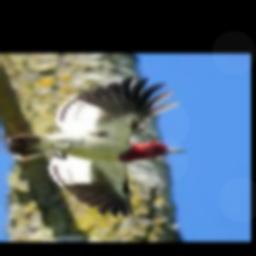Woodpecker: (0, 77, 186, 223)
